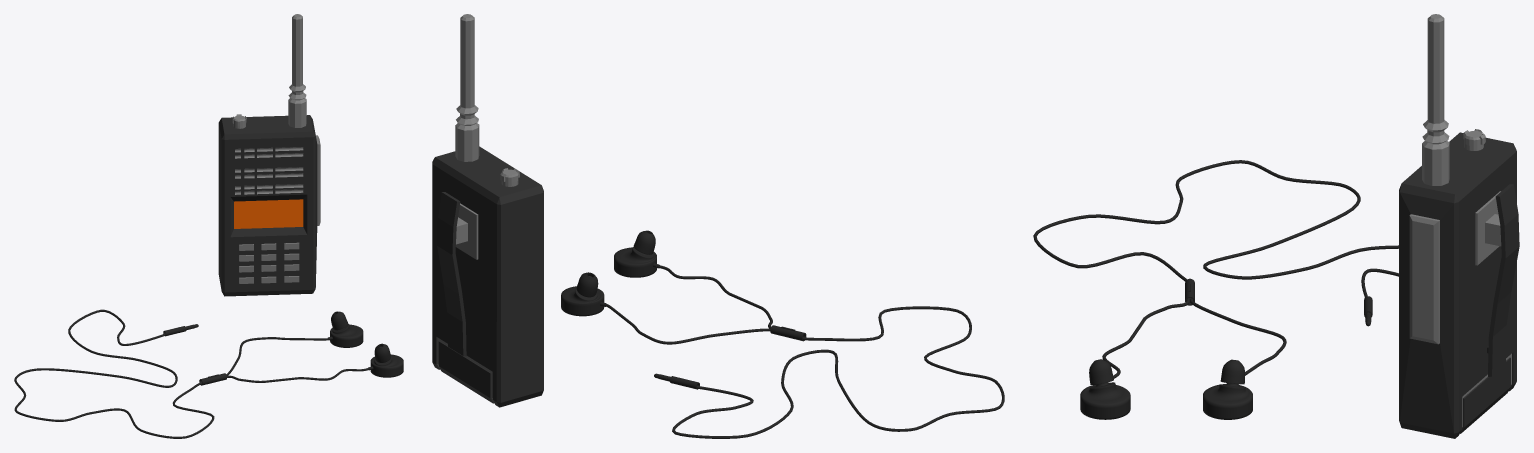
Rendered from HT + Headset.fbx.
3 renders of one model, left to right at view 1: azimuth 30°, elevation 25°; view 2: azimuth 150°, elevation 25°; view 3: azimuth 270°, elevation 25°, orthographic. The views are drawn at different scales.
Parts seen in each view (by area): view 1: Cube, Object001; view 2: Cube, Object001; view 3: Cube, Object001.
Boxes of the visible parts, bbox=[...] form: Cube: bbox=[218, 14, 320, 296]; Object001: bbox=[14, 309, 403, 438]; Cube: bbox=[432, 14, 543, 407]; Object001: bbox=[561, 230, 1004, 438]; Cube: bbox=[1399, 14, 1519, 438]; Object001: bbox=[1033, 160, 1398, 419].
Size of the model in its own units: 63.08 by 44.41 by 47.89.
